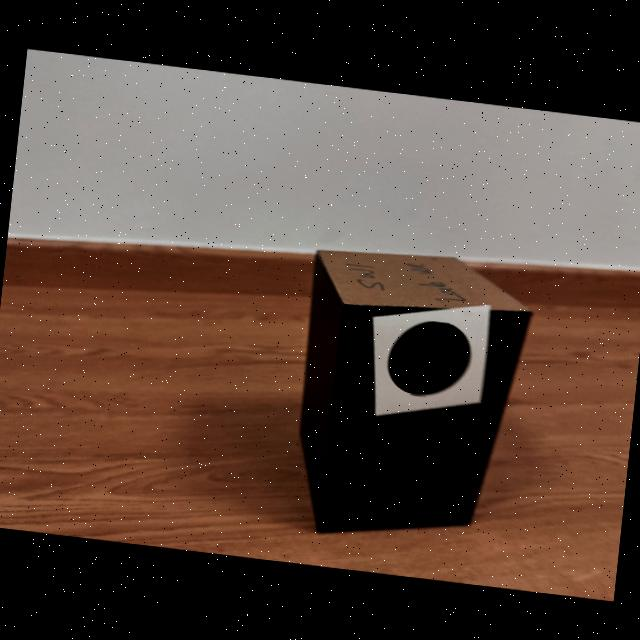CIRCLE: (388, 320, 469, 394)
